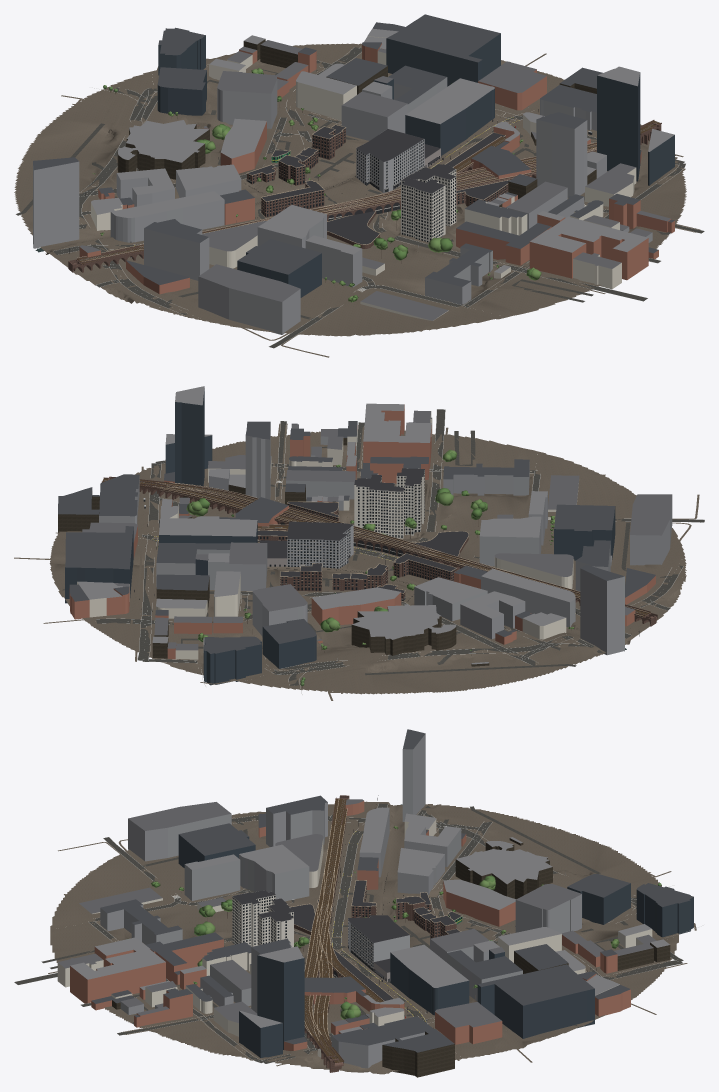
The picture shows the model from 3 angles, top to bottom: view 1: azimuth 30°, elevation 25°; view 2: azimuth 150°, elevation 25°; view 3: azimuth 270°, elevation 25°; orthographic projection. The views are drawn at different scales.
Visible parts, largest first — view 1: Terrain_EA_DTM, bldg_100646647, bldg_31182346, bldg_31178728, bldg_31183325, SURR_bldg_100646631, bldg_100646629, road_4721472, bldg_31183352, SURR_bldg_647385655, SURR_trees_crowns, SURR_bldg_204921679 (+2 smaller); view 2: Terrain_EA_DTM, bldg_31182346, bldg_100646647, bldg_31183325, bldg_31178728, SURR_bldg_100646631, bldg_100646629, road_4721472, bldg_31183352, SURR_bldg_647385655, viaduct_31178960_deck, SURR_trees_crowns (+3 smaller); view 3: Terrain_EA_DTM, bldg_31178728, bldg_100646647, bldg_31182346, bldg_31183325, bldg_100646629, SURR_bldg_100646631, road_4721472, bldg_31183352, viaduct_31178960_deck, SURR_bldg_647385655, SURR_trees_crowns (+2 smaller).
Part boxes in pixels (x1,y1,x2,y2): Terrain_EA_DTM: (14,43,700,357); bldg_100646647: (33,77,652,334); bldg_31182346: (91,28,674,320); bldg_31178728: (79,40,674,320); bldg_31183325: (33,14,674,286); SURR_bldg_100646631: (68,119,661,272); bldg_100646629: (157,31,674,297); road_4721472: (16,47,704,348); bldg_31183352: (117,39,596,207); SURR_bldg_647385655: (401,167,456,242); SURR_trees_crowns: (92,68,541,302); SURR_bldg_204921679: (356,139,424,193); Terrain_EA_DTM: (14,423,699,700); bldg_31182346: (77,386,611,664); bldg_100646647: (99,431,672,655); bldg_31183325: (58,421,655,653); bldg_31178728: (69,404,671,659); SURR_bldg_100646631: (102,468,657,626); bldg_100646629: (65,388,615,685); road_4721472: (62,409,704,685); bldg_31183352: (58,438,489,666); SURR_bldg_647385655: (354,468,424,538); viaduct_31178960_deck: (102,478,650,616); SURR_trees_crowns: (157,449,574,650); Terrain_EA_DTM: (48,801,696,1074); bldg_31178728: (58,799,656,1050); bldg_100646647: (100,734,581,1068); bldg_31182346: (57,807,669,1057); bldg_31183325: (91,729,693,1052); bldg_100646629: (178,834,693,1057); SURR_bldg_100646631: (232,795,462,1072); road_4721472: (14,803,683,1063); bldg_31183352: (112,838,670,1077); viaduct_31178960_deck: (304,798,383,1062); SURR_bldg_647385655: (232,895,293,947); SURR_trees_crowns: (128,826,619,1019).
Size of the model in its own units: 610 by 97.78 by 657.
Materials: 40 (6 with a texture image).
